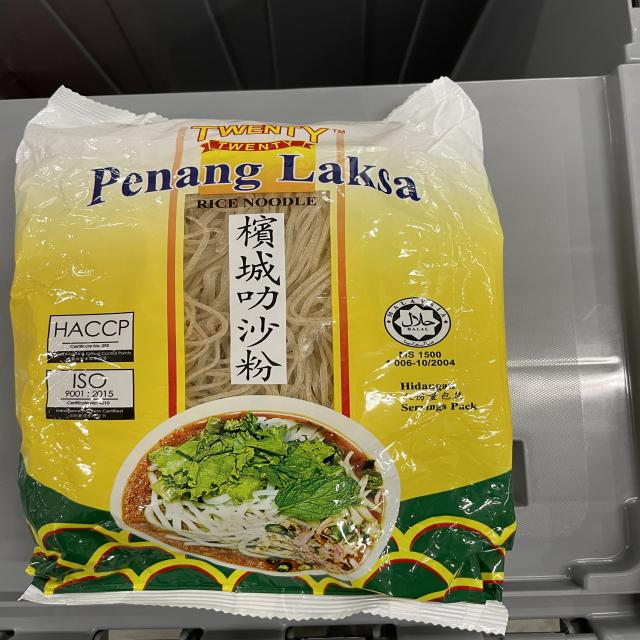object_name: (22, 101, 489, 600)
